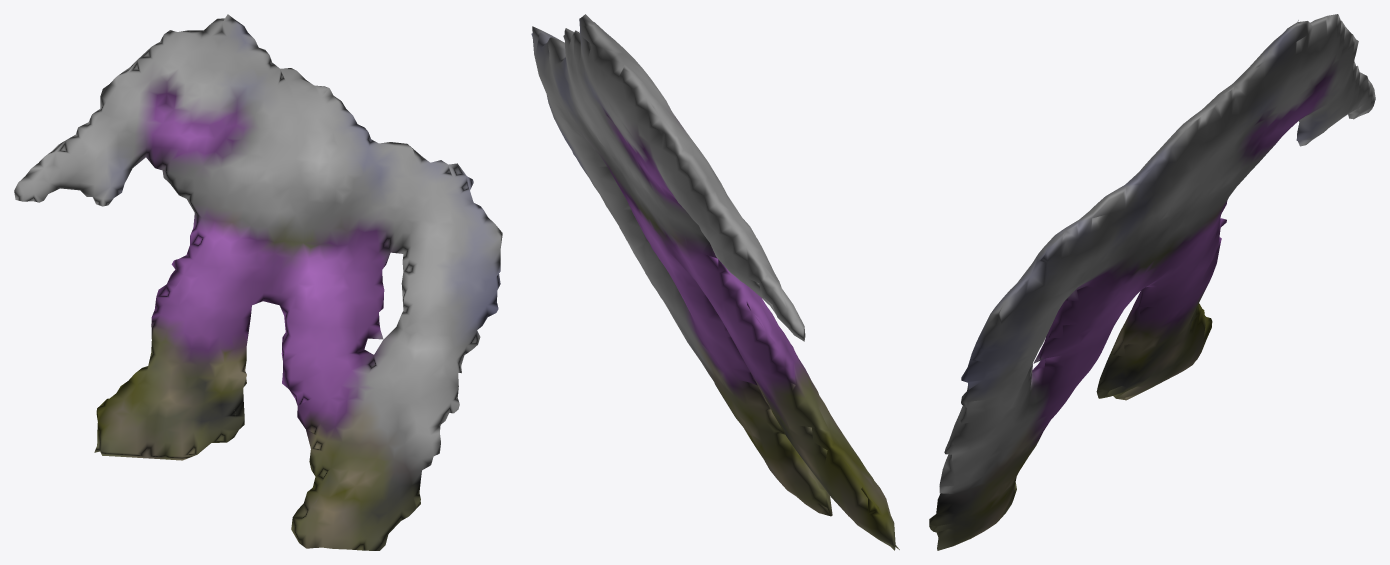
The model's file is yuri_brute.glb.
The picture shows the model from 3 angles, left to right: view 1: azimuth 30°, elevation 25°; view 2: azimuth 150°, elevation 25°; view 3: azimuth 270°, elevation 25°; orthographic projection. The views are drawn at different scales.
Parts seen in each view (by area): view 1: yuri_brute; view 2: yuri_brute; view 3: yuri_brute.
Part boxes in pixels (x1,y1,x2,y2): yuri_brute: [14, 14, 502, 550]; yuri_brute: [531, 14, 899, 550]; yuri_brute: [929, 14, 1375, 550].
Size of the model in its own units: 1.6 by 1.98 by 1.5.
